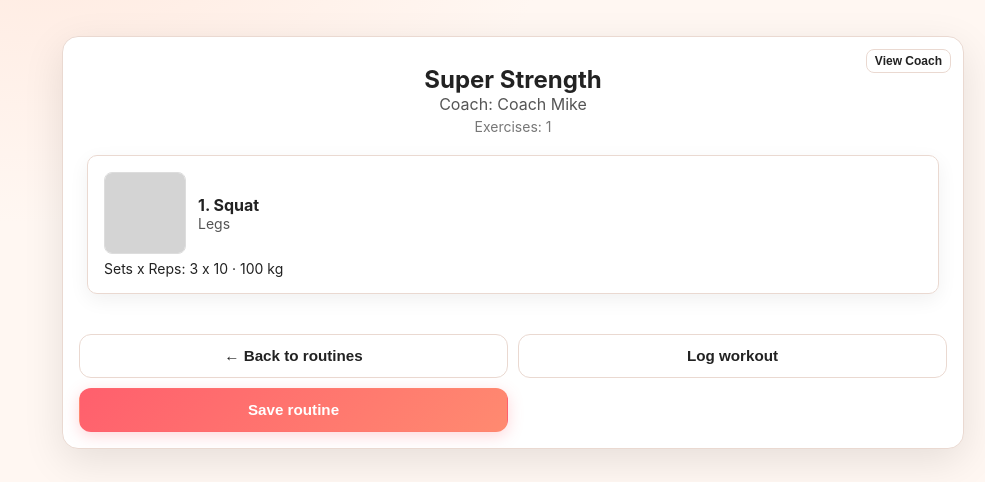
Test: RoutineDetailPage › allows saving a routine
Expected: the heading "Super Strength" is shown, [424,65,602,94]
Click the button "Save routine" at {"x": 294, "y": 410}, box [79,388,508,432]
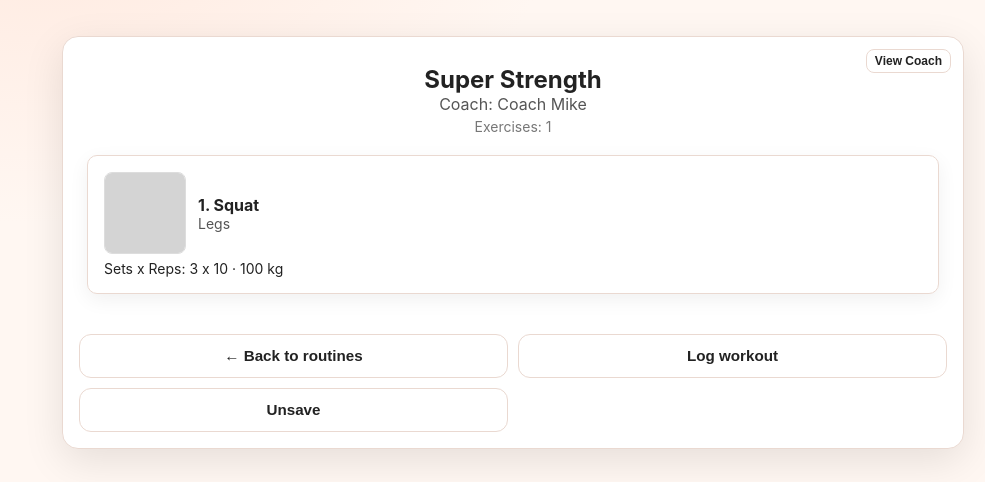
Expected: the button "Unsave" is shown, [79,388,508,432]
